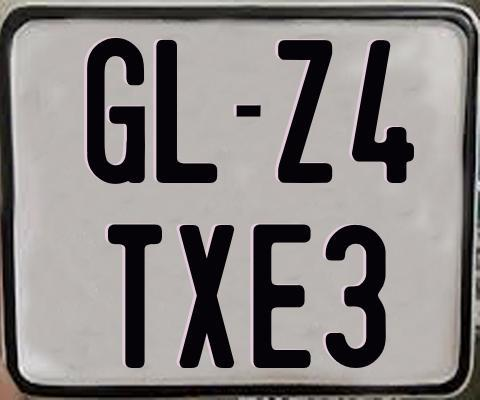3: (326, 225, 387, 368)
4: (352, 39, 419, 182)
E: (250, 221, 309, 371)
G: (87, 35, 145, 185)
L: (155, 37, 219, 180)
T: (108, 224, 167, 374)
X: (176, 223, 237, 368)
Z: (278, 39, 338, 184)
